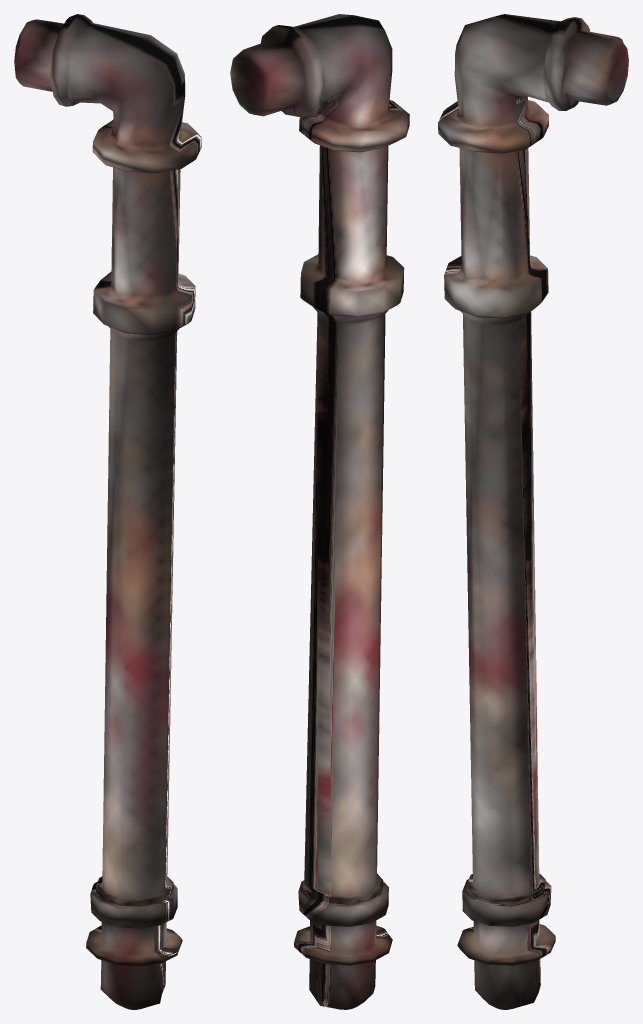
File: lead_pipe.glb
3 renders of one model, left to right at view 1: azimuth 90°, elevation 25°; view 2: azimuth 150°, elevation 25°; view 3: azimuth 270°, elevation 25°, orthographic.
Parts seen in each view (by area): view 1: body; view 2: body; view 3: body.
Part boxes in pixels (box(x1,y1,x2,y2)): body: box(14, 14, 201, 1009); body: box(230, 14, 409, 1009); body: box(438, 14, 628, 1009).
Size of the model in its own units: 0.0794 by 0.65 by 0.1131.
1 material, 1 textured.
